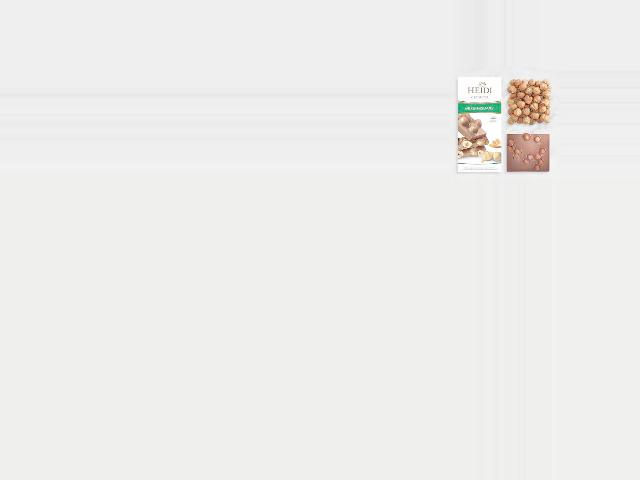chocolate: (504, 133, 554, 174)
